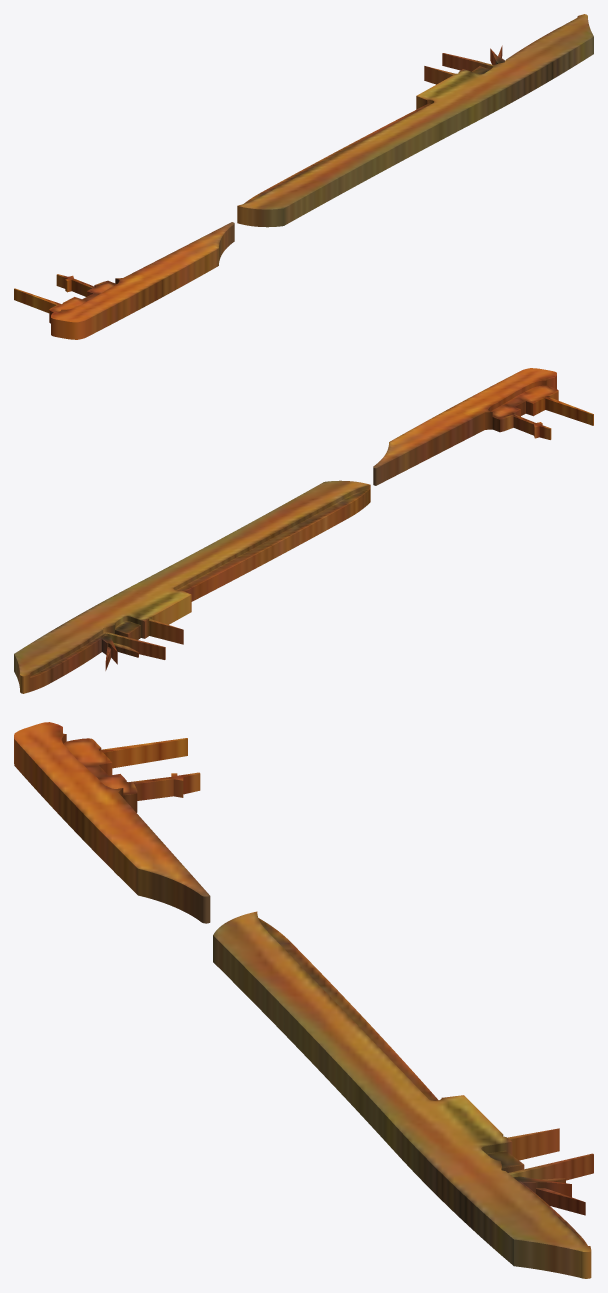
File: Panama 4.dae
3 views of the same model, one above another, from view 1: azimuth 30°, elevation 25°; view 2: azimuth 210°, elevation 25°; view 3: azimuth 270°, elevation 25° (orthographic). The views are drawn at different scales.
Parts seen in each view (by area): view 1: SketchUp (×2); view 2: SketchUp (×2); view 3: SketchUp (×2).
Part boxes in pixels (box(x1,y1,x2,y2)): SketchUp (×2): box(14, 14, 593, 339); SketchUp (×2): box(14, 368, 593, 693); SketchUp (×2): box(14, 722, 593, 1278).
Size of the model in its own units: 37.18 by 17.19 by 0.875.
1 material, 1 textured.
